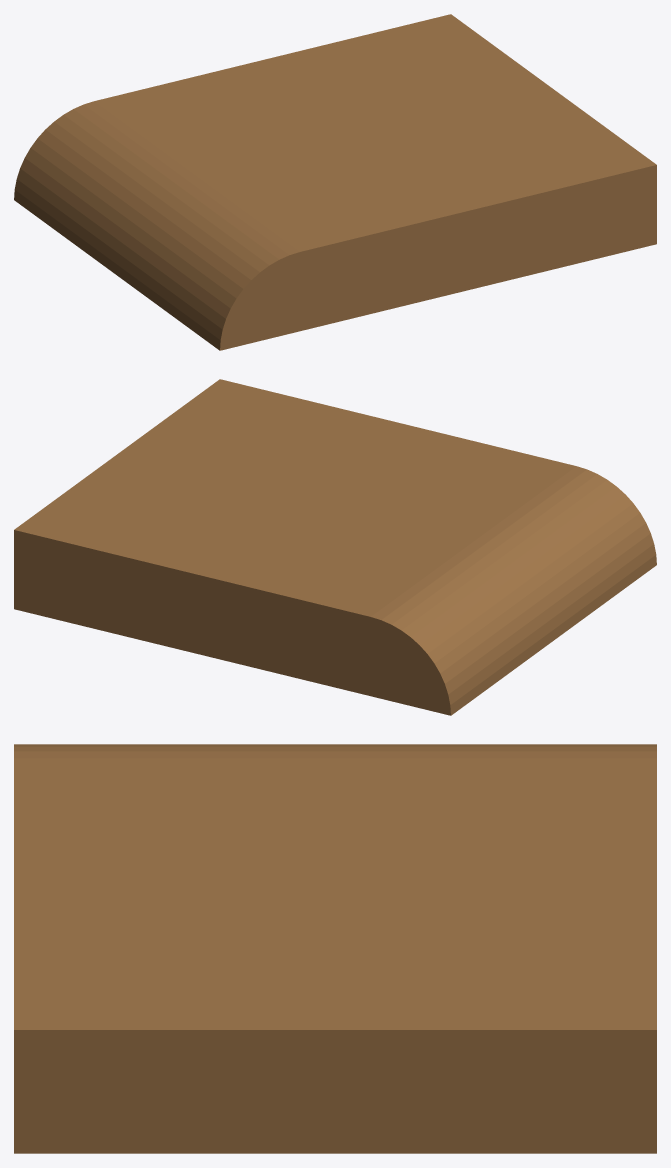
File: modularbuildings_010.glb
3 renders of one model, top to bottom at view 1: azimuth 30°, elevation 25°; view 2: azimuth 150°, elevation 25°; view 3: azimuth 270°, elevation 25°, orthographic. The views are drawn at different scales.
Visible parts, largest first — view 1: Mesh1 Group1 Model; view 2: Mesh1 Group1 Model; view 3: Mesh1 Group1 Model.
Boxes of the visible parts, x1,y1,x2,y2 form: Mesh1 Group1 Model: (14, 14, 656, 350); Mesh1 Group1 Model: (14, 379, 656, 715); Mesh1 Group1 Model: (14, 744, 656, 1153).
Size of the model in its own units: 1.22 by 0.2125 by 1.
